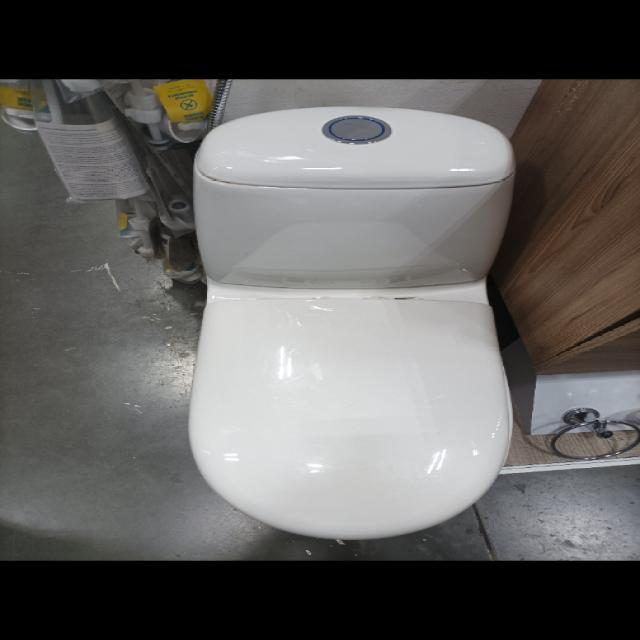toilet: (186, 105, 516, 540)
